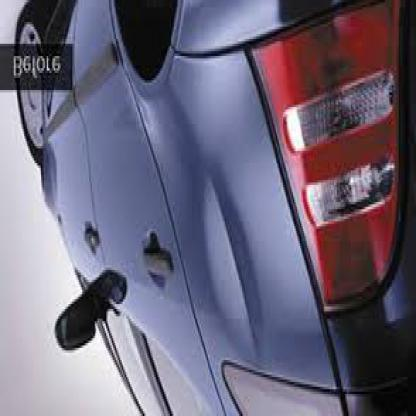dent: (202, 188, 256, 346)
